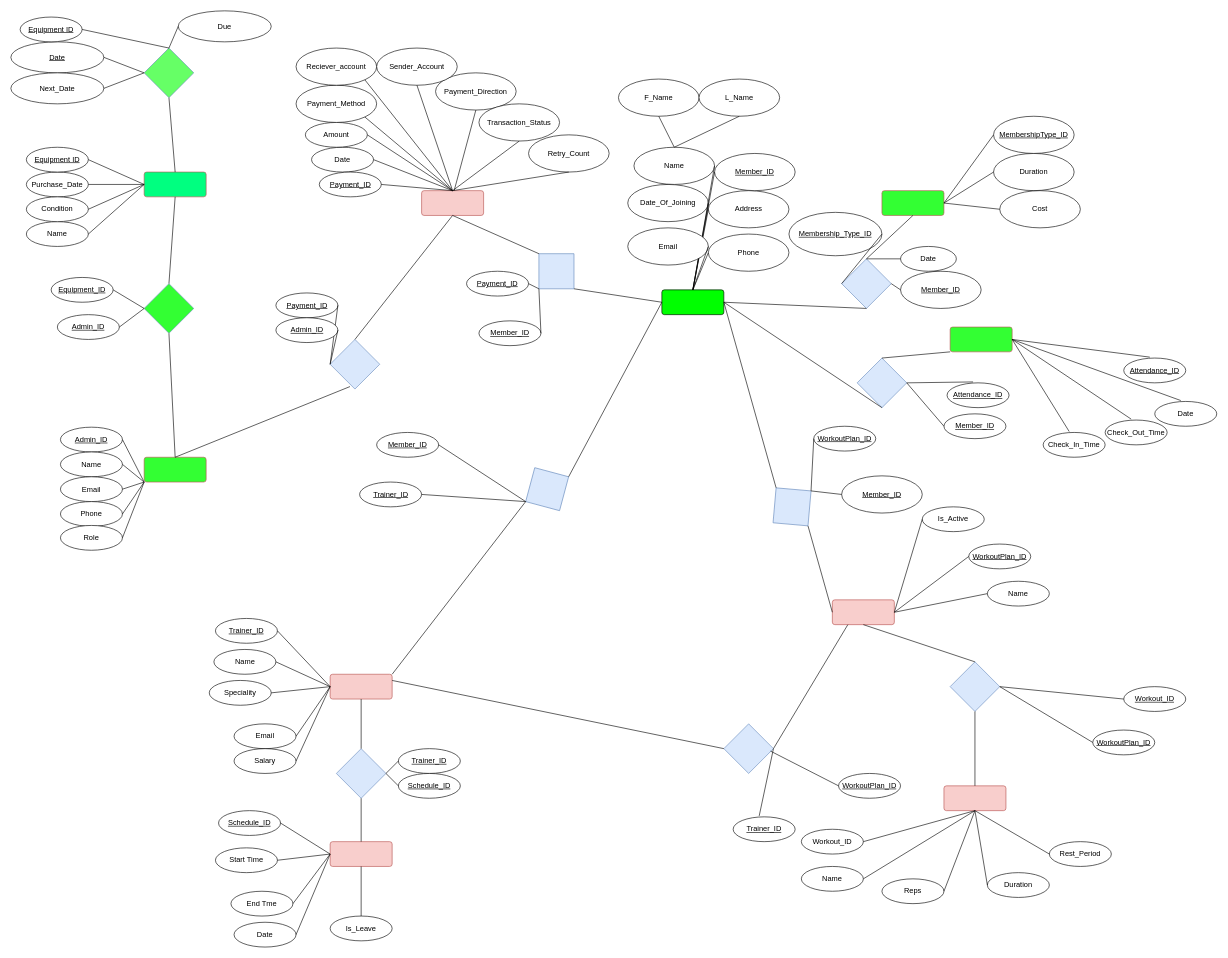
The diagram is 1228 pixels wide and 958 high, and some of its shapes have lost their labels. The shapes that lost their labels are listed below. From the top down, each one's box as (x1, y1, x2, y2) in pixels, then its label:
(144, 47, 194, 98): Maintenance
(144, 171, 206, 197): Equpiment
(421, 190, 484, 215): Payment
(881, 190, 944, 215): Membership Type
(521, 235, 592, 306): Makes
(841, 258, 891, 308): belongs
(144, 283, 194, 333): Manages
(661, 289, 724, 315): Member
(950, 326, 1012, 352): Attendence
(330, 339, 380, 389): Process
(857, 357, 907, 408): Mark
(144, 457, 206, 482): Admin
(513, 455, 581, 523): Assigned
(756, 471, 827, 542): Enrolled
(832, 599, 894, 625): Workout Plan
(330, 674, 392, 699): Trainer
(950, 661, 1000, 711): Has
(723, 723, 773, 773): Design
(336, 748, 386, 798): Follow
(943, 785, 1006, 811): Workout
(330, 841, 392, 866): Trainer Schedule
